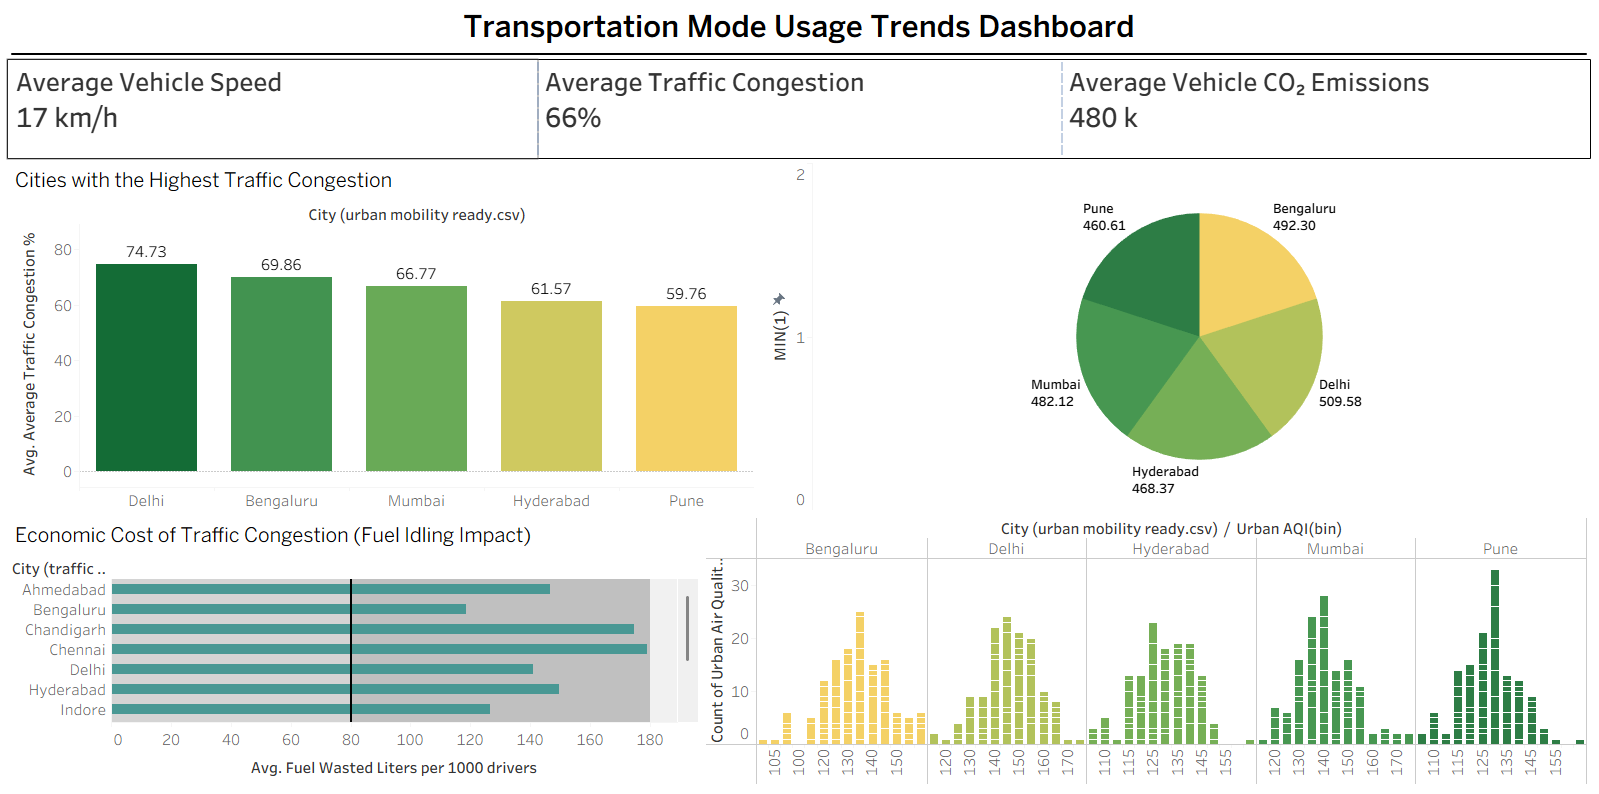

What the dashboard file says about the page in this screenshot:
{"tool":"tableau","page":{"name":"Transportation Mode Usage Trends Dashboard","canvas":[1600,800],"ordinal":0},"visuals":[{"type":"title","box":[8,8,1584,44]},{"type":"blank","box":[8,52,1584,10]},{"type":"worksheet","title":"Sheet 6","mark":"Automatic","box":[9,63,529.5,98]},{"type":"worksheet","title":"Sheet 5","mark":"Automatic","box":[538.5,63,523,98]},{"type":"worksheet","title":"Sheet 7","mark":"Automatic","box":[1061.5,63,529.5,98]},{"type":"worksheet","title":"Sheet 1","mark":"Automatic","rows":["Average_Traffic_Congestion_%"],"cols":["City (urban_mobility_ready.csv)"],"box":[8,162,751,355]},{"type":"worksheet","title":"Sheet 4","mark":"Pie","rows":["Calculation_1482187931799554"],"box":[759,162,833,355]},{"type":"worksheet","title":"Sheet 2","mark":"Automatic","rows":["City (traffic_2025_ready.csv)"],"cols":["Fuel_Wasted_Liters_per_1000_drivers"],"box":[8,517,695,275]},{"type":"worksheet","title":"Sheet 3","mark":"Automatic","rows":["Urban_Air_Quality_Index"],"cols":["City (urban_mobility_ready.csv)","Urban Air Quality Index (bin)"],"box":[703,517,888.8,275]}]}

Visuals, with their boxes in screenshot pixels (x1, y1, x2, y2), scaled from the page's 1600x800 canvas onto the 1599x794 screenshot:
title: bbox(8, 8, 1591, 52)
blank: bbox(8, 52, 1591, 62)
"Sheet 6" worksheet: bbox(9, 63, 538, 160)
"Sheet 5" worksheet: bbox(538, 63, 1061, 160)
"Sheet 7" worksheet: bbox(1061, 63, 1590, 160)
"Sheet 1" worksheet: bbox(8, 161, 759, 513)
"Sheet 4" worksheet (Pie marks): bbox(759, 161, 1591, 513)
"Sheet 2" worksheet: bbox(8, 513, 703, 786)
"Sheet 3" worksheet: bbox(703, 513, 1591, 786)
